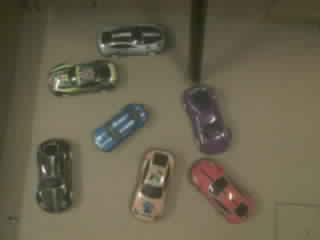Car: (191, 160, 252, 221), (183, 86, 230, 153), (131, 149, 174, 220), (37, 138, 72, 212), (94, 104, 148, 151), (49, 60, 117, 95), (97, 24, 165, 55)
